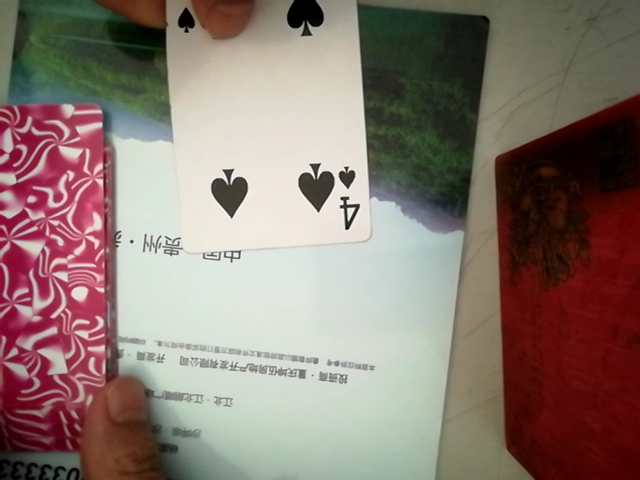ht 4: (149, 0, 372, 257)
